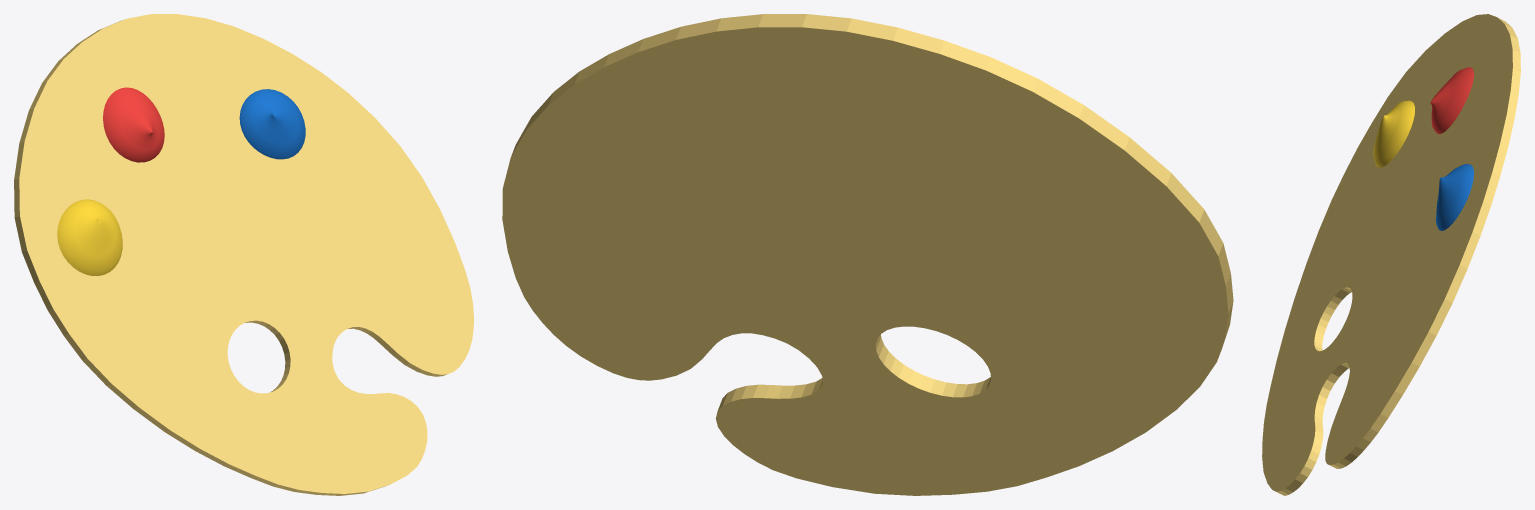
Rendered from artist_palette.glb.
3 renders of one model, left to right at view 1: azimuth 30°, elevation 25°; view 2: azimuth 150°, elevation 25°; view 3: azimuth 270°, elevation 25°, orthographic. The views are drawn at different scales.
Parts seen in each view (by area): view 1: Plane.320; view 2: Plane.320; view 3: Plane.320.
Boxes of the visible parts, box(x1,y1,x2,y2) form: Plane.320: box(14, 14, 473, 495); Plane.320: box(502, 14, 1233, 495); Plane.320: box(1262, 14, 1520, 495).
Bounding box in the file's own units: 2.36 × 2.13 × 1.28.
Materials: 1 (1 with a texture image).
